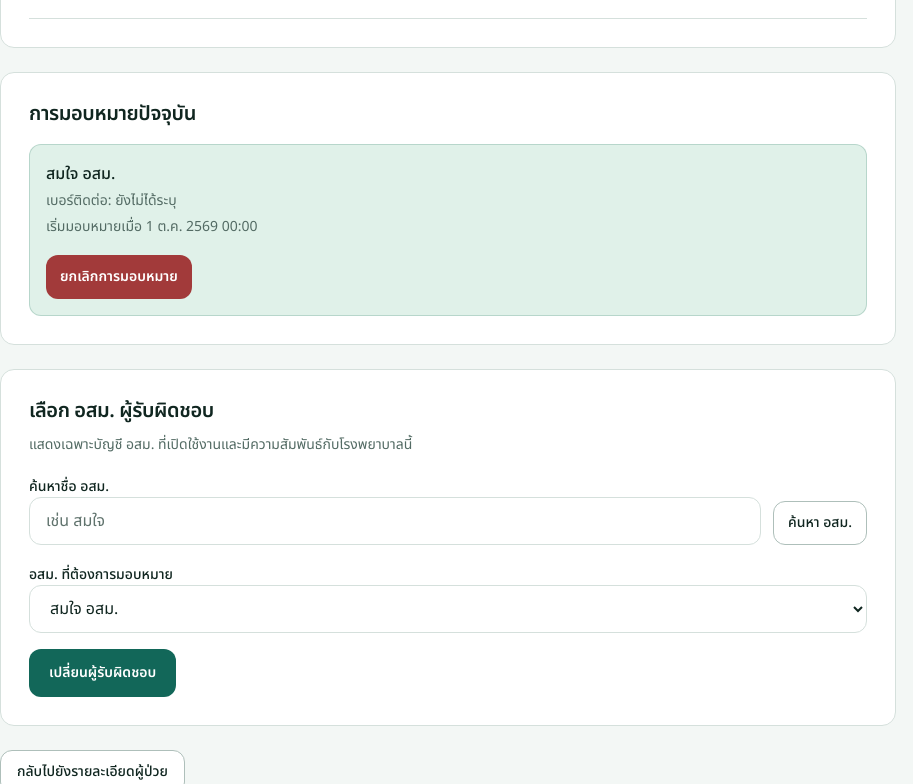
Test: single OSM assignment feedback › never shows an earlier assignment success for a later assignment that is pending or unconfirmed
(page scrolled)
Select "สมหมาย อสม." in the dropdown labelled "อสม. ที่ต้องการมอบหมาย" at (448, 610), box [29,586,867,634]
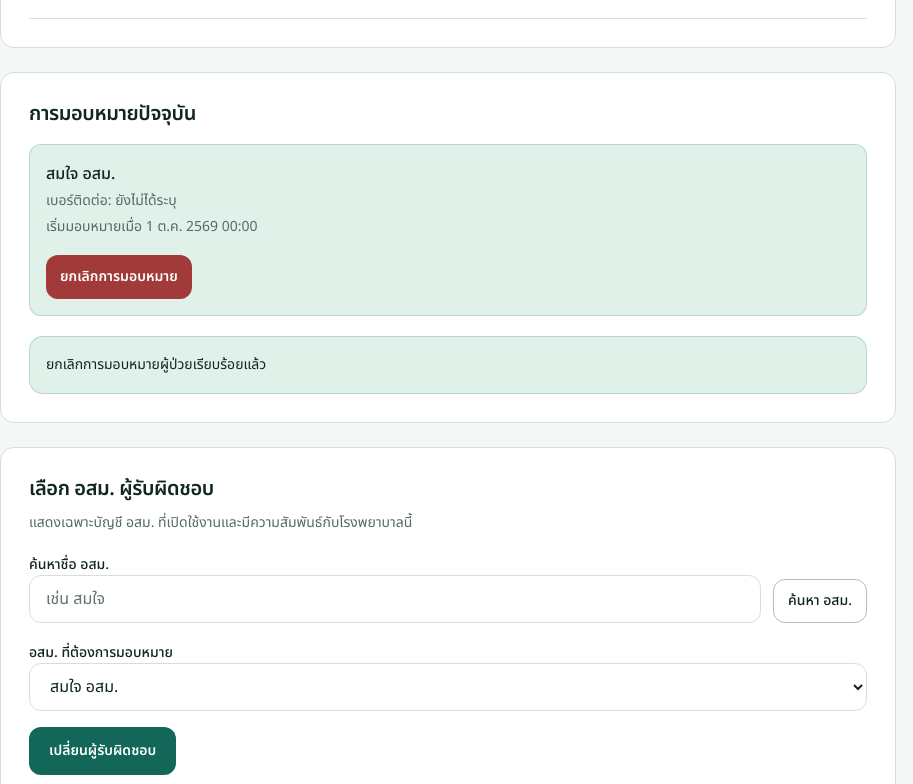
Now the text "ยกเลิกการมอบหมายผู้ป่วยเรียบร้อยแล้ว" is shown, box [29,336,867,394]
Select "สมหมาย อสม." in the dropdown labelled "อสม. ที่ต้องการมอบหมาย" at (448, 688), box [29,664,867,712]
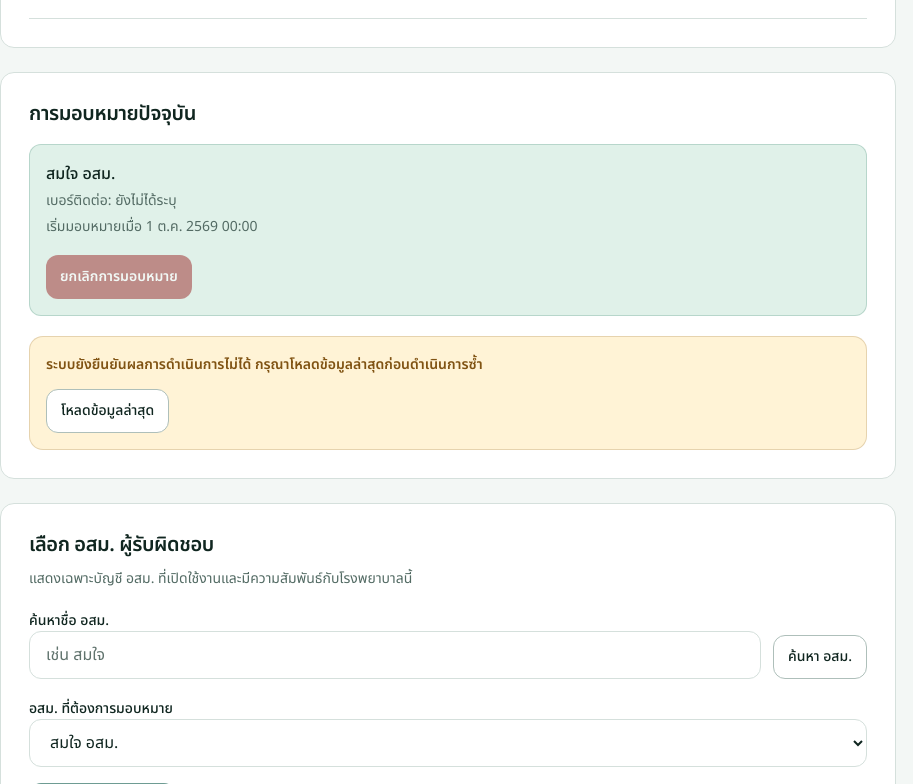
Now the text "ระบบยังยืนยันผลการดำเนินการไม่ได้" is shown, box [46,354,483,376]
Now the text "เรียบร้อยแล้ว" is gone
